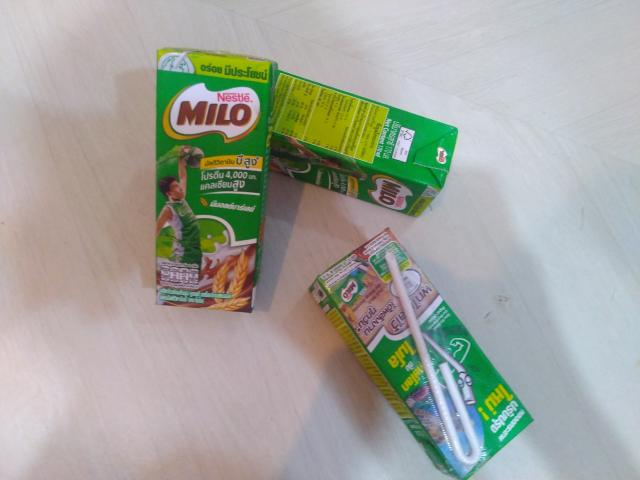drink_box: (288, 210, 556, 480), (136, 36, 294, 326), (257, 67, 482, 228)
